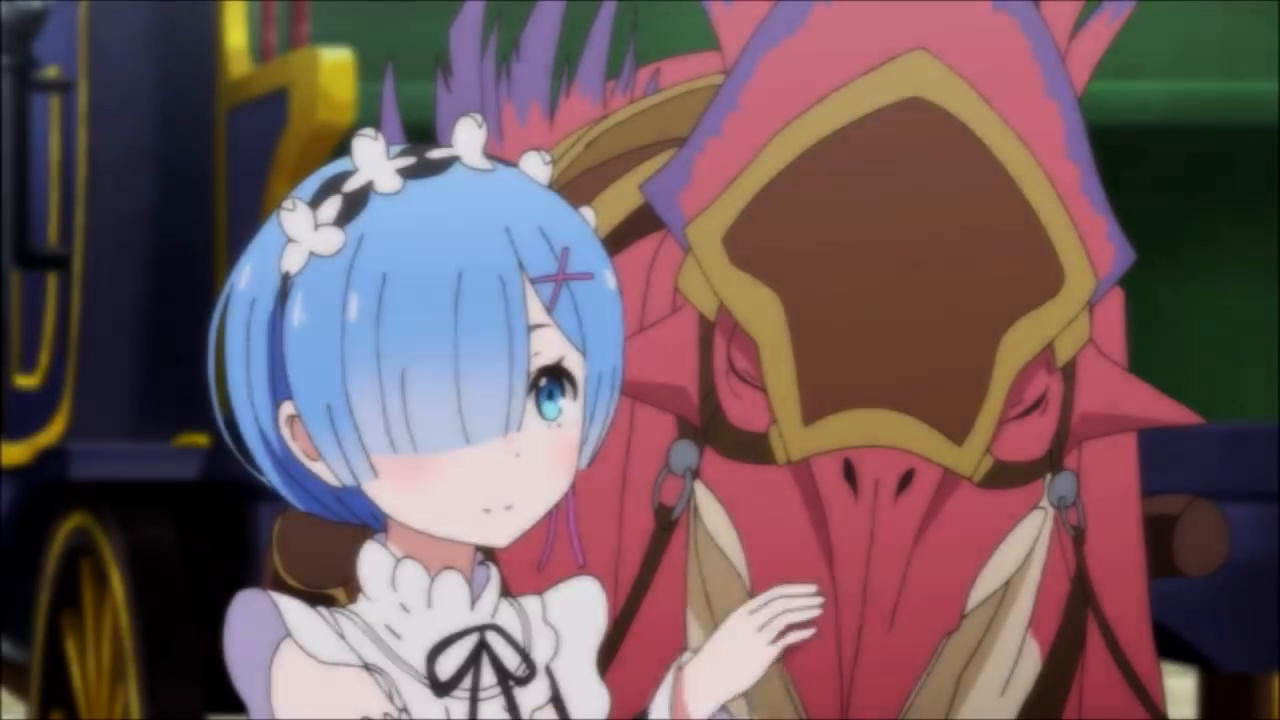REM: (208, 140, 626, 554)
